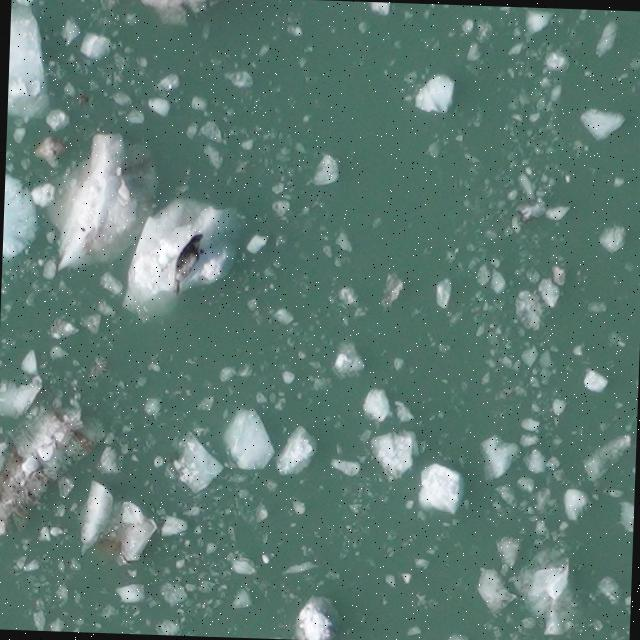seal: (166, 228, 208, 301)
